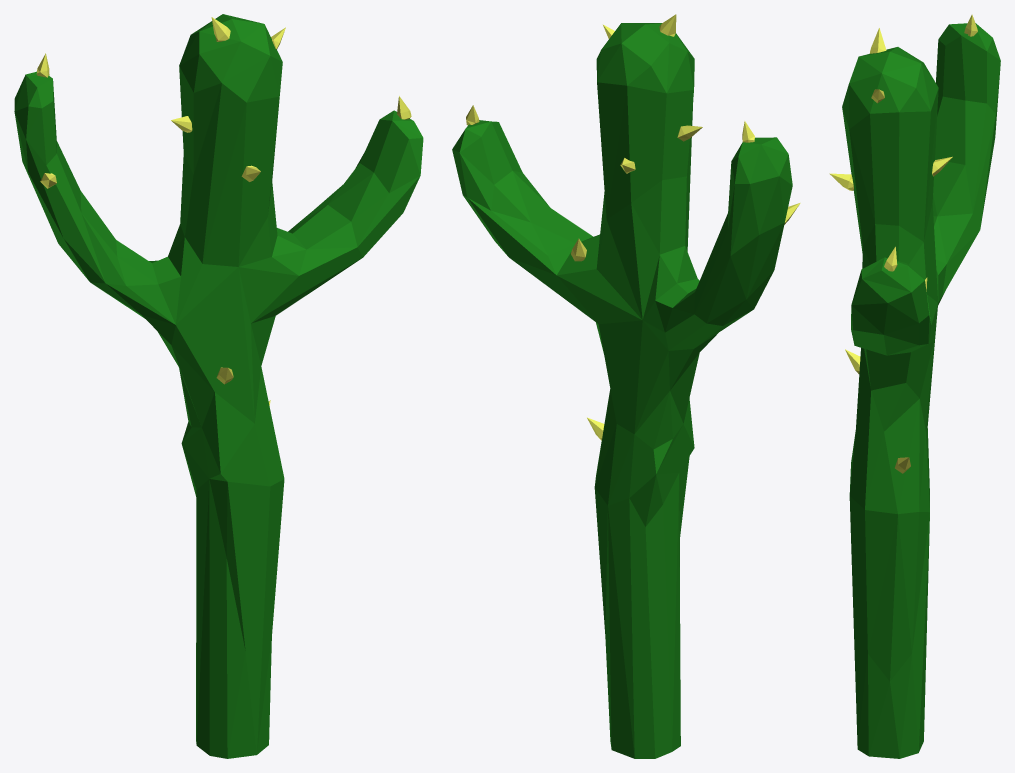
Rendered from cactoos.fbx.
3 renders of one model, left to right at view 1: azimuth 30°, elevation 25°; view 2: azimuth 150°, elevation 25°; view 3: azimuth 270°, elevation 25°, orthographic. The views are drawn at different scales.
Visible parts, largest first — view 1: Cactoos; view 2: Cactoos; view 3: Cactoos.
Boxes of the visible parts, left/top/right/bottom form: Cactoos: left=14, top=14, right=423, bottom=758; Cactoos: left=452, top=14, right=800, bottom=758; Cactoos: left=829, top=14, right=1000, bottom=758.
Size of the model in its own units: 1079 by 2105 by 464.
